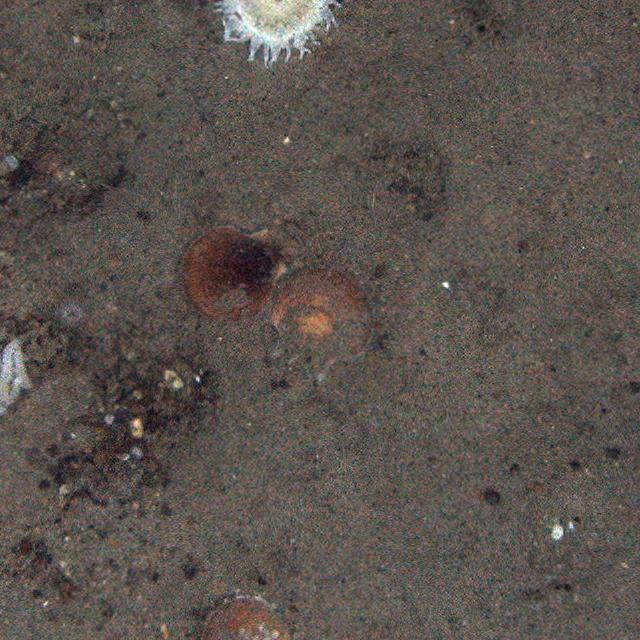scallop: (270, 266, 378, 378), (182, 222, 290, 322)
